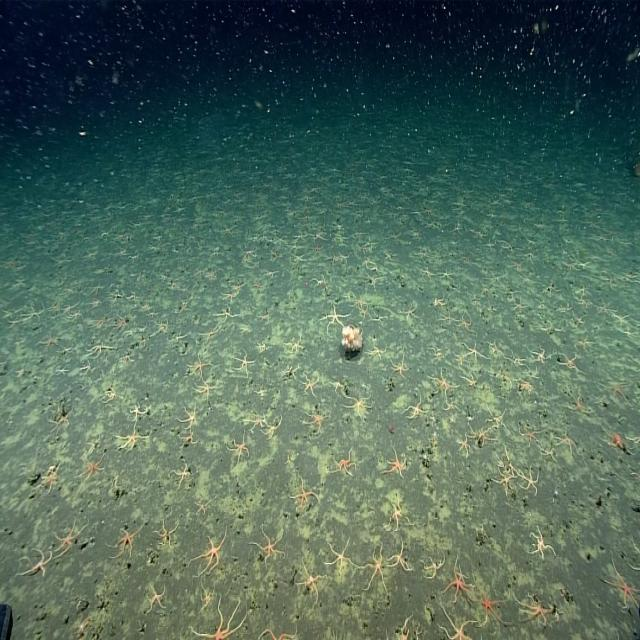brittle-stars: (188, 592, 251, 640), (471, 564, 513, 634), (597, 554, 640, 614), (187, 525, 228, 580), (53, 508, 90, 561), (382, 587, 418, 640), (357, 539, 390, 595), (105, 519, 146, 564), (442, 556, 478, 606), (511, 590, 556, 628), (249, 523, 285, 570), (14, 544, 54, 586), (294, 557, 327, 605), (324, 536, 358, 580), (435, 605, 476, 640), (72, 448, 106, 489), (382, 490, 413, 532), (120, 412, 156, 446), (425, 366, 459, 402), (386, 534, 415, 576), (46, 399, 76, 439), (288, 474, 321, 510), (300, 402, 333, 438), (526, 524, 557, 562), (602, 426, 635, 461), (341, 388, 374, 422), (466, 418, 497, 452), (36, 459, 61, 500), (187, 347, 217, 381), (317, 301, 349, 332), (226, 429, 251, 468), (562, 381, 589, 417), (257, 616, 297, 640), (601, 377, 633, 407), (380, 446, 408, 480), (418, 548, 446, 582), (522, 336, 552, 367), (329, 447, 358, 479), (552, 427, 580, 460), (489, 466, 516, 499), (169, 455, 191, 492), (400, 395, 430, 422), (556, 348, 586, 375), (458, 339, 490, 364), (231, 347, 256, 379), (160, 504, 186, 534), (500, 443, 520, 481), (476, 392, 501, 422), (145, 582, 167, 616), (516, 420, 542, 448), (196, 578, 217, 612), (261, 411, 284, 442), (519, 462, 541, 494), (196, 320, 222, 347), (214, 298, 242, 323), (388, 351, 410, 382), (176, 402, 198, 432), (82, 341, 118, 359), (34, 332, 61, 356), (489, 367, 514, 392), (436, 305, 460, 329), (362, 331, 385, 356), (503, 348, 526, 371), (242, 410, 266, 432), (300, 372, 320, 398), (401, 298, 422, 322), (453, 309, 474, 333), (486, 338, 507, 362), (454, 432, 473, 458), (197, 376, 220, 397), (86, 313, 108, 334), (176, 430, 197, 451), (281, 362, 301, 384), (309, 269, 327, 293), (172, 292, 193, 312), (99, 383, 117, 406), (113, 309, 131, 332), (284, 330, 304, 350), (359, 270, 381, 288), (442, 393, 459, 416), (134, 397, 154, 416), (153, 316, 173, 335), (346, 291, 371, 306), (622, 431, 640, 450), (426, 343, 444, 362), (455, 364, 474, 382), (192, 496, 209, 516), (134, 333, 151, 353), (240, 244, 257, 264), (360, 256, 381, 272), (539, 444, 557, 462), (516, 374, 532, 394), (418, 264, 434, 283), (429, 290, 445, 308), (56, 342, 74, 358), (80, 355, 93, 377), (254, 337, 269, 356), (328, 377, 345, 393), (436, 265, 453, 281), (367, 307, 384, 323), (167, 275, 183, 291), (252, 384, 270, 398), (54, 363, 71, 377), (251, 276, 263, 295), (337, 248, 353, 262), (110, 287, 126, 301), (126, 287, 139, 304), (262, 268, 280, 280), (290, 253, 308, 264), (222, 288, 236, 302), (122, 352, 136, 366), (358, 304, 369, 320), (330, 252, 341, 266)
